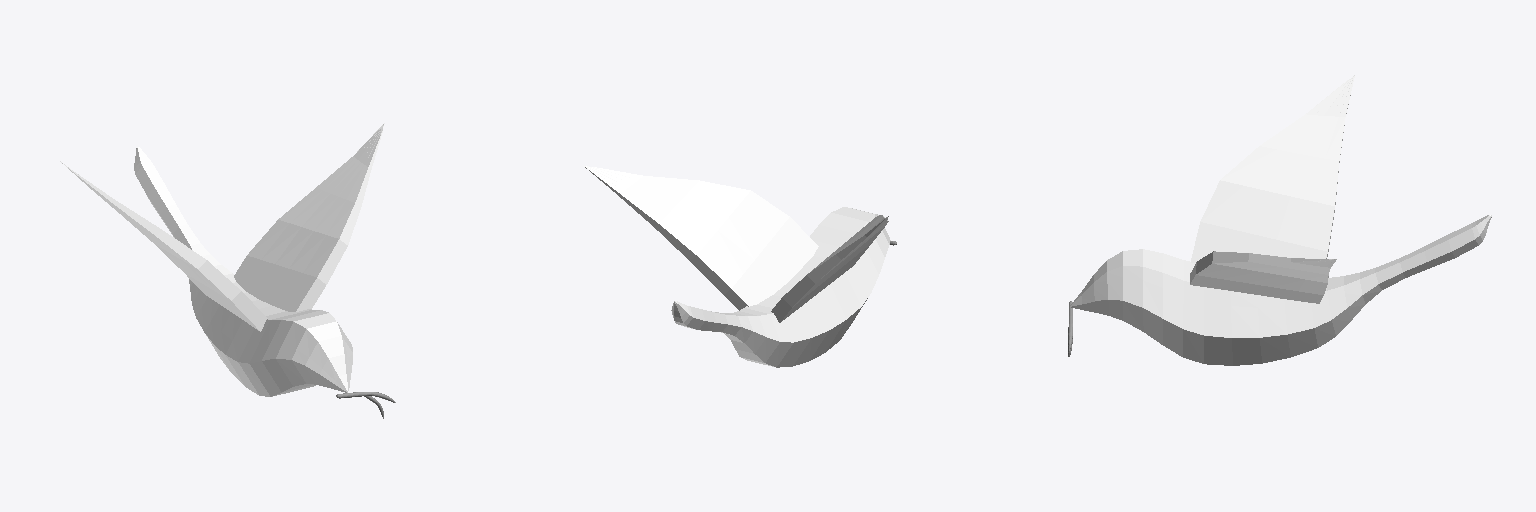
3 views of the same model, side by side, from view 1: azimuth 30°, elevation 25°; view 2: azimuth 150°, elevation 25°; view 3: azimuth 270°, elevation 25° (orthographic).
Parts seen in each view (by area): view 1: Null_1_Loft_NURBS, Null_1_Cube_1_Cube_11, Null_1_Cube_Cube1; view 2: Null_1_Cube_1_Cube_11, Null_1_Loft_NURBS, Null_1_Cube_Cube1; view 3: Null_1_Loft_NURBS, Null_1_Cube_Cube1, Null_1_Cube_1_Cube_11.
Boxes of the visible parts, x1=… form: Null_1_Loft_NURBS: x1=134, y1=148, x2=352, y2=396; Null_1_Cube_1_Cube_11: x1=234, y1=123, x2=384, y2=311; Null_1_Cube_Cube1: x1=60, y1=161, x2=267, y2=331; Null_1_Cube_1_Cube_11: x1=583, y1=165, x2=818, y2=310; Null_1_Loft_NURBS: x1=671, y1=207, x2=890, y2=367; Null_1_Cube_Cube1: x1=771, y1=215, x2=888, y2=322; Null_1_Loft_NURBS: x1=1070, y1=215, x2=1489, y2=365; Null_1_Cube_Cube1: x1=1191, y1=75, x2=1354, y2=263; Null_1_Cube_1_Cube_11: x1=1190, y1=251, x2=1336, y2=303.
Size of the model in its own units: 2.59 by 1.66 by 3.01.
3 materials, 2 textured.